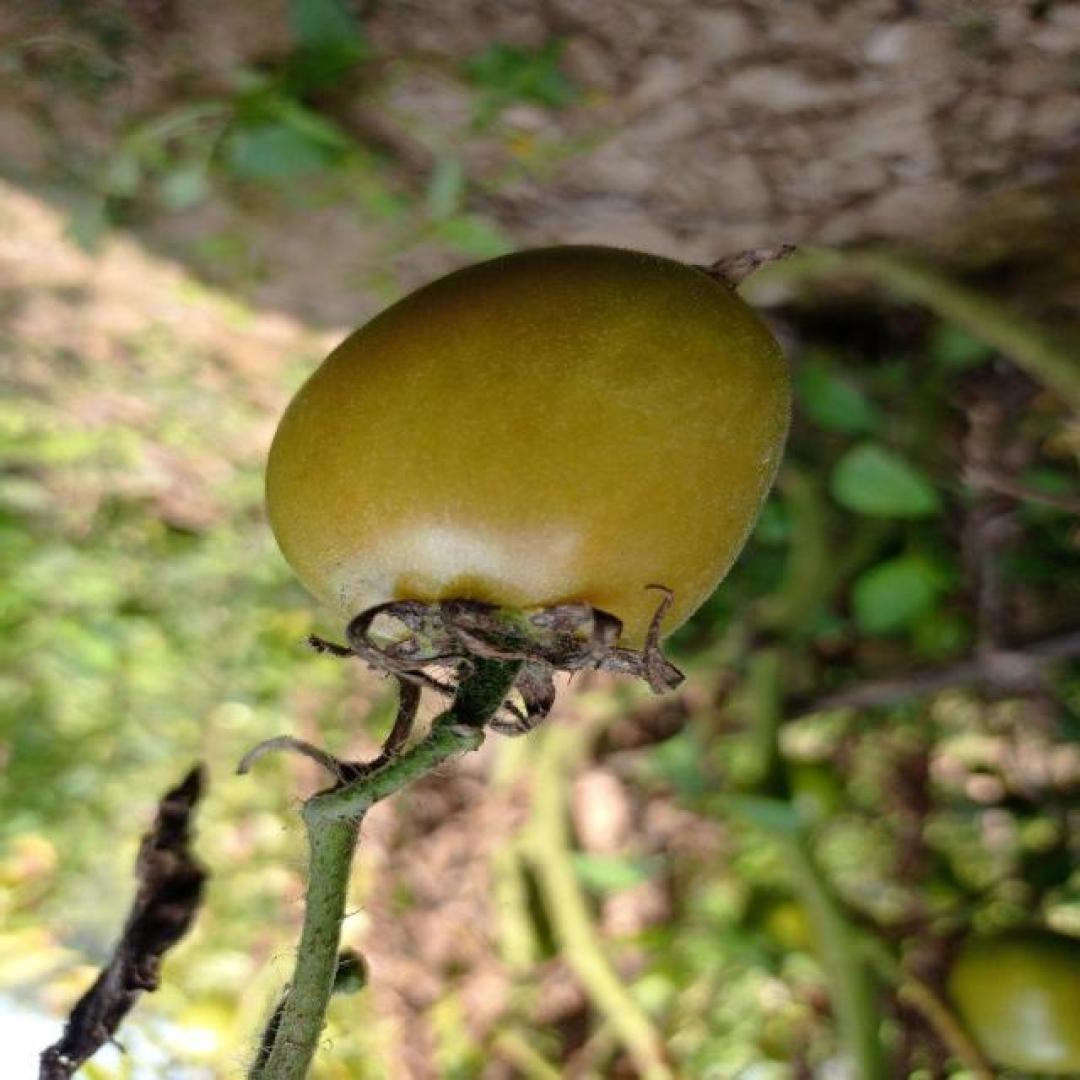setengah_matang: (267, 245, 802, 675)
